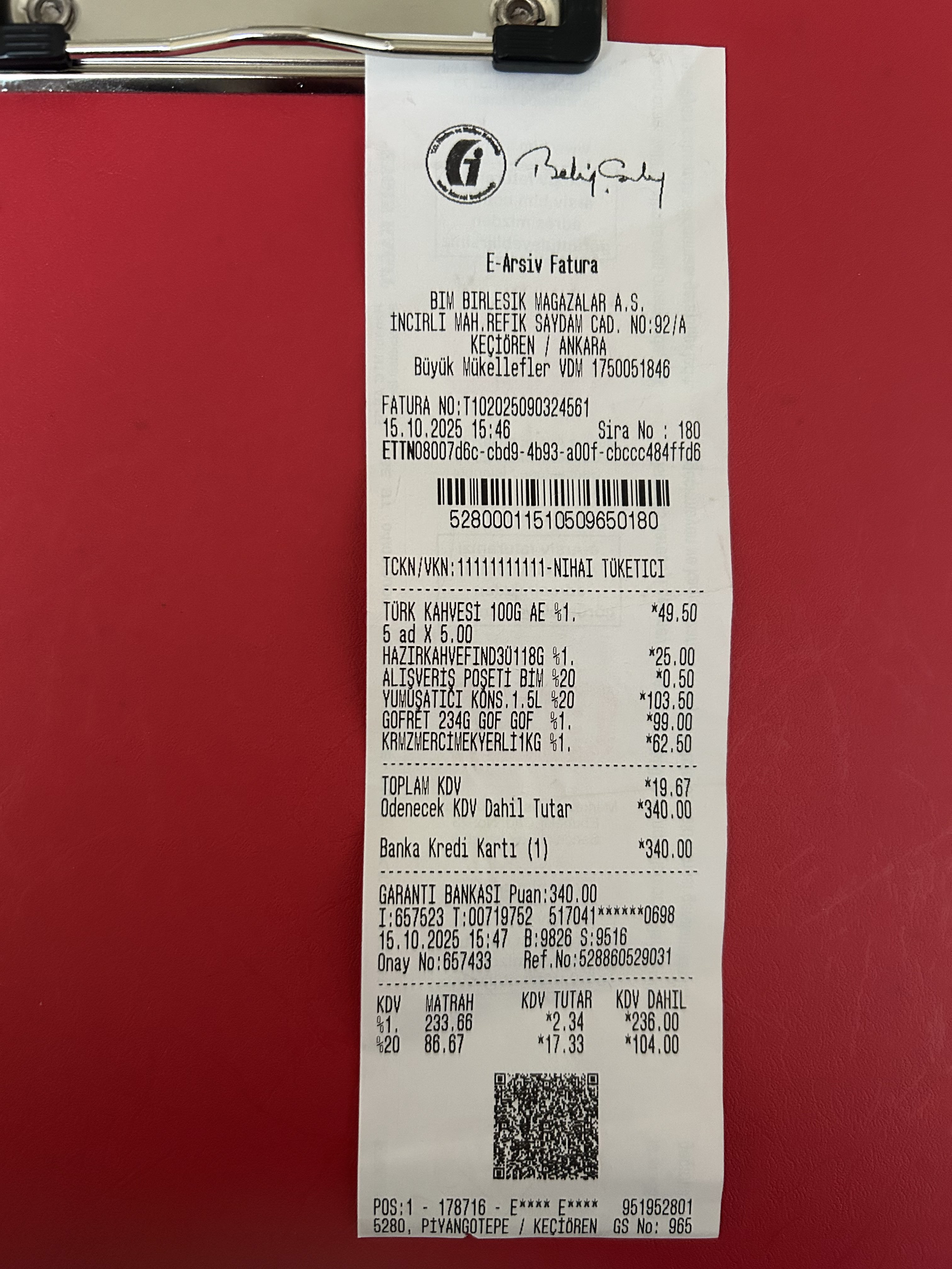date: (642, 797, 697, 825)
price: (378, 415, 466, 441)
workplace: (380, 283, 694, 358)
